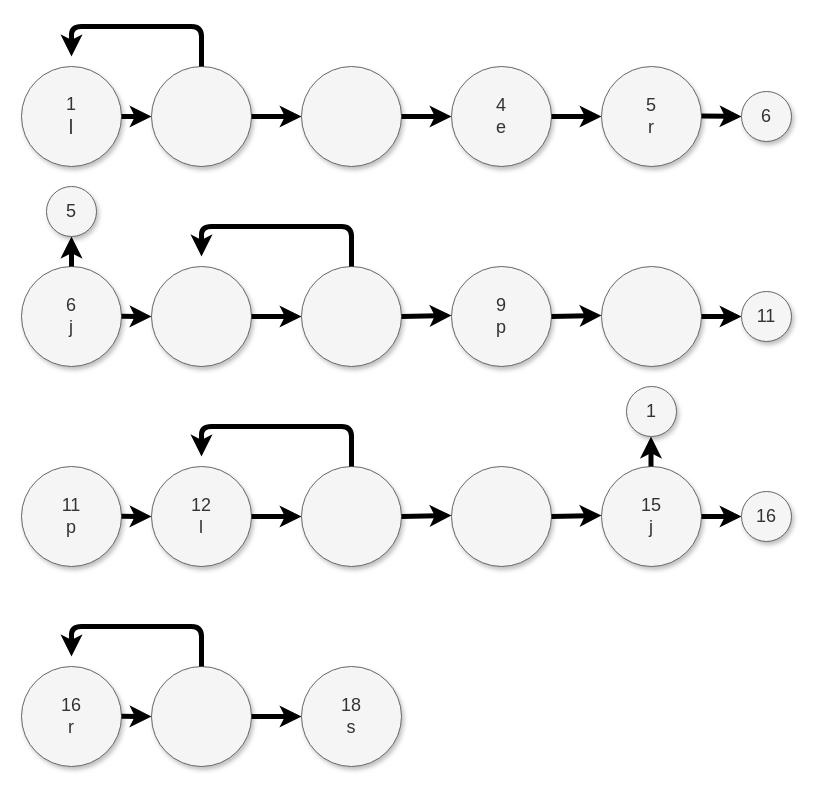
The diagram is 815 pixels wide and 791 high, and some of its shapes have lost their labels. Each missing label, with the centre of its shape:
10 r: the point at 652,318
13 j: the point at 352,518
14 l: the point at 502,518
17 j: the point at 202,718
2 j: the point at 202,118
3 r: the point at 352,118
7 r: the point at 202,318
8 j: the point at 352,318
